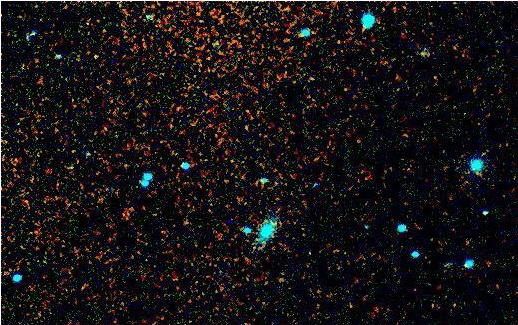star: (235, 123, 265, 153)
